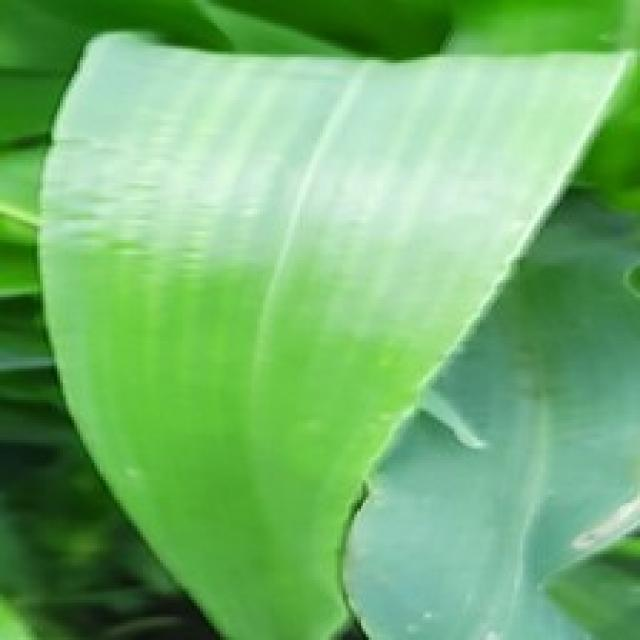Corn: (0, 0, 637, 637), (337, 186, 637, 637), (440, 0, 637, 214)
